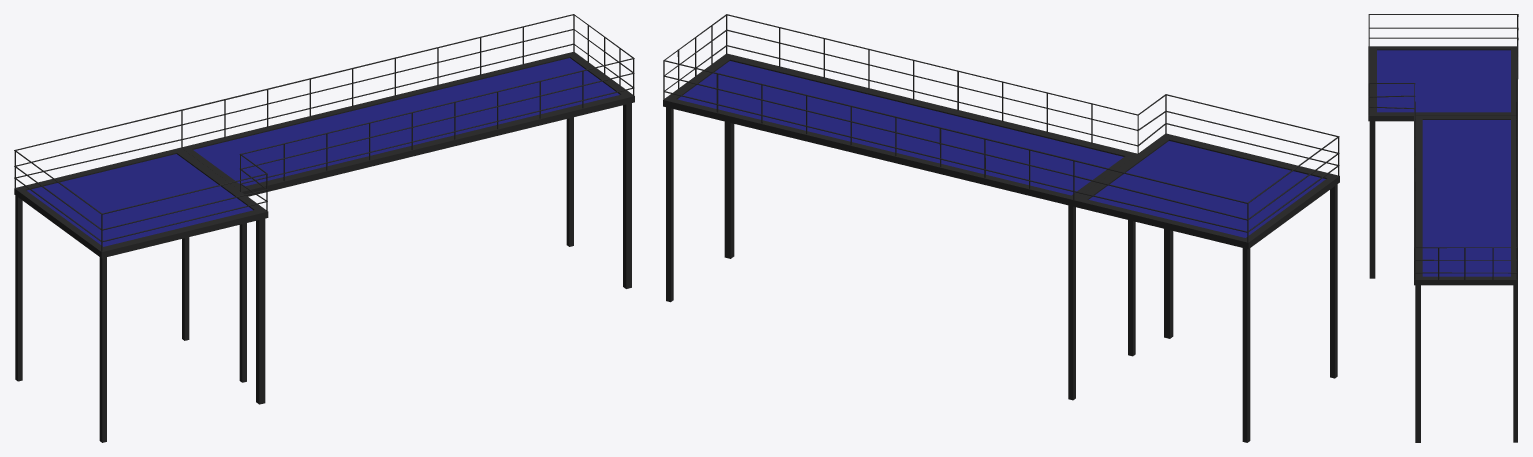
File: TRAY_PLATFORM_LOWER_1_V5.FBX
The picture shows the model from 3 angles, left to right: view 1: azimuth 30°, elevation 25°; view 2: azimuth 150°, elevation 25°; view 3: azimuth 270°, elevation 25°; orthographic projection. The views are drawn at different scales.
Visible parts, largest first — view 1: TRAY_PLATFORM_LOWER_1, Plane007; view 2: TRAY_PLATFORM_LOWER_1, Plane007; view 3: Plane007, TRAY_PLATFORM_LOWER_1.
Boxes of the visible parts, x1,y1,x2,y2 form: TRAY_PLATFORM_LOWER_1: (14,14,634,442); Plane007: (27,58,619,246); TRAY_PLATFORM_LOWER_1: (663,14,1339,442); Plane007: (677,61,1325,237); Plane007: (1377,50,1510,276); TRAY_PLATFORM_LOWER_1: (1368,14,1518,442).
Size of the model in its own units: 538 by 211 by 146.
